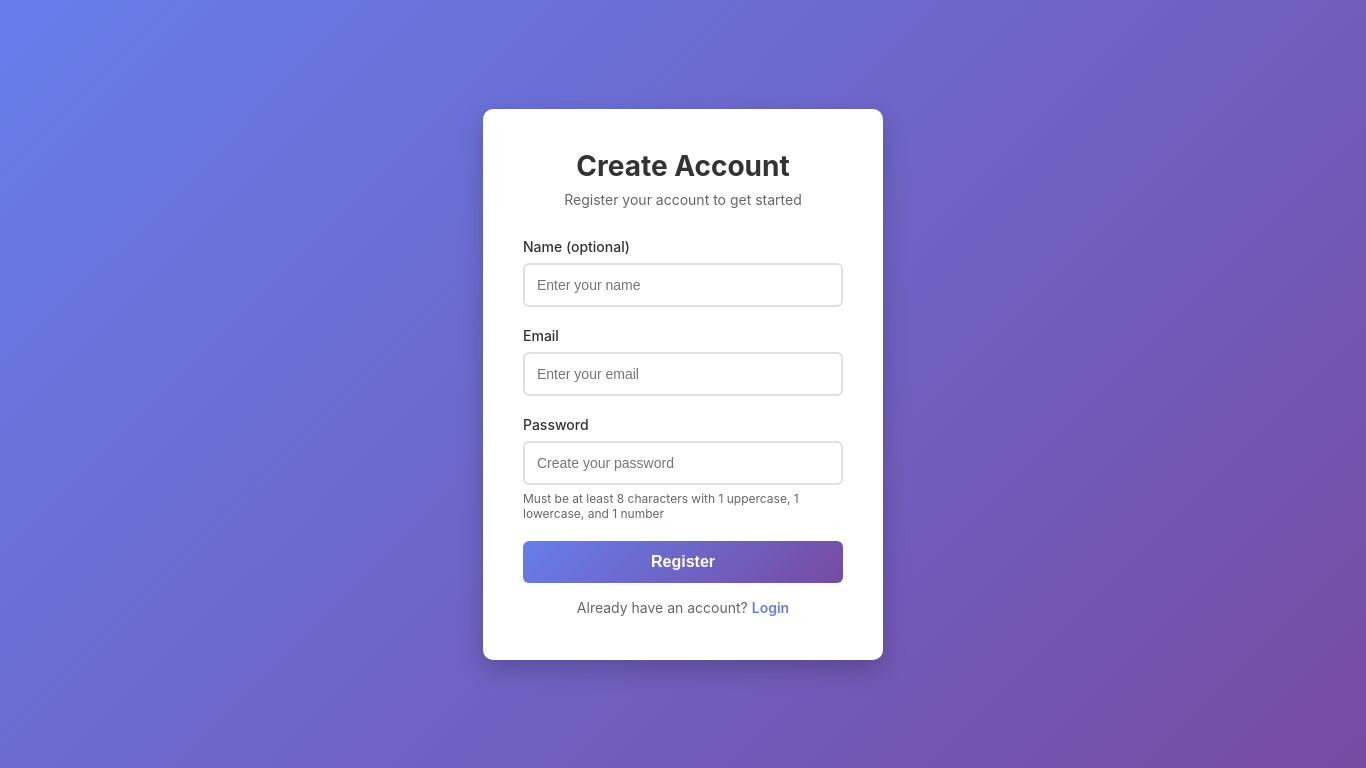
Test: Register page › shows email required error when submitting without email
What coordinates should you click on to do the following:
click the button "Register"
I would click on:
 (683, 562)
Its box is x1=523 y1=540 x2=843 y2=582.
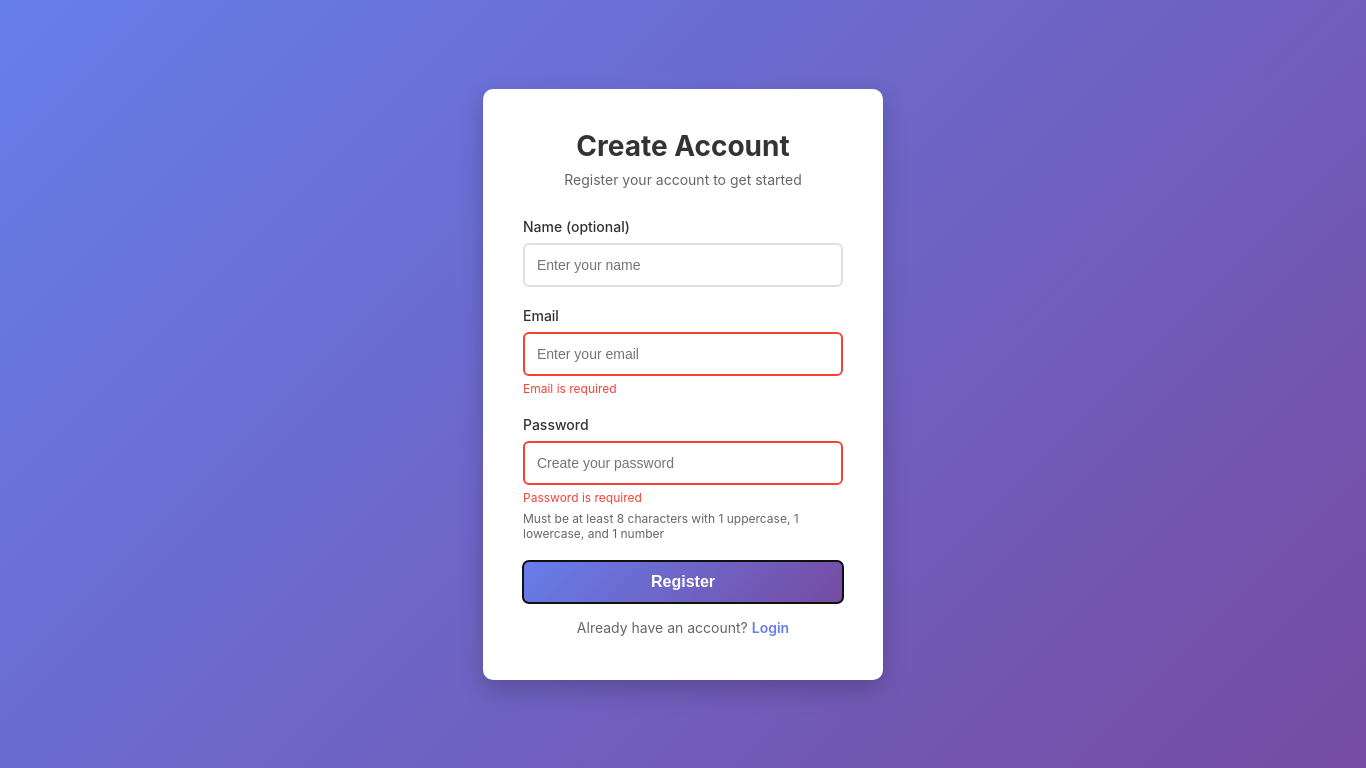
Result: the text "Email is required" is shown at x1=523 y1=380 x2=617 y2=396
